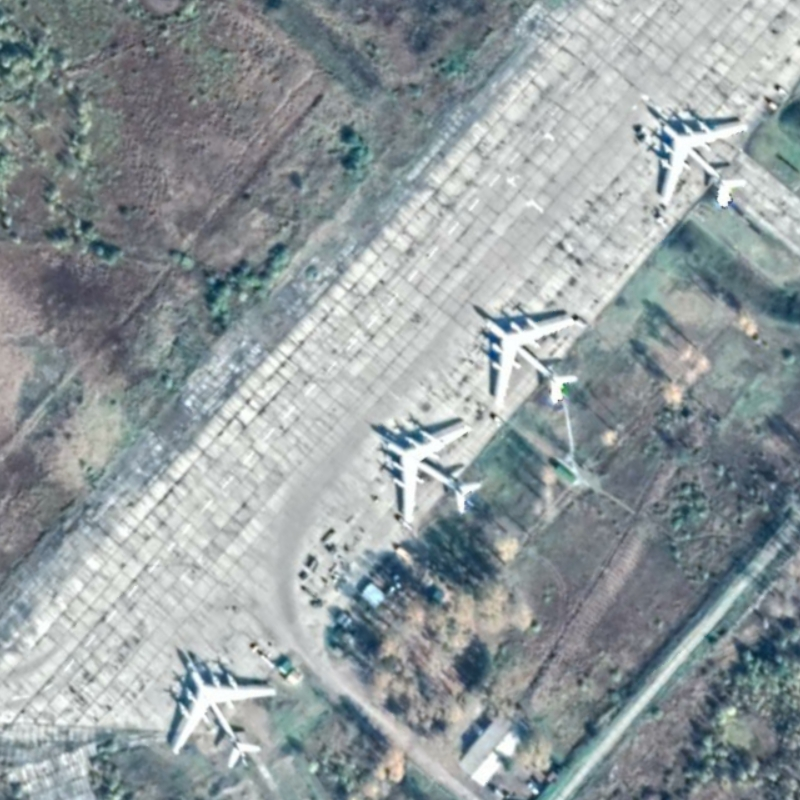A17: (170, 660, 279, 771), (383, 424, 484, 524), (480, 315, 579, 407), (656, 120, 751, 207)
